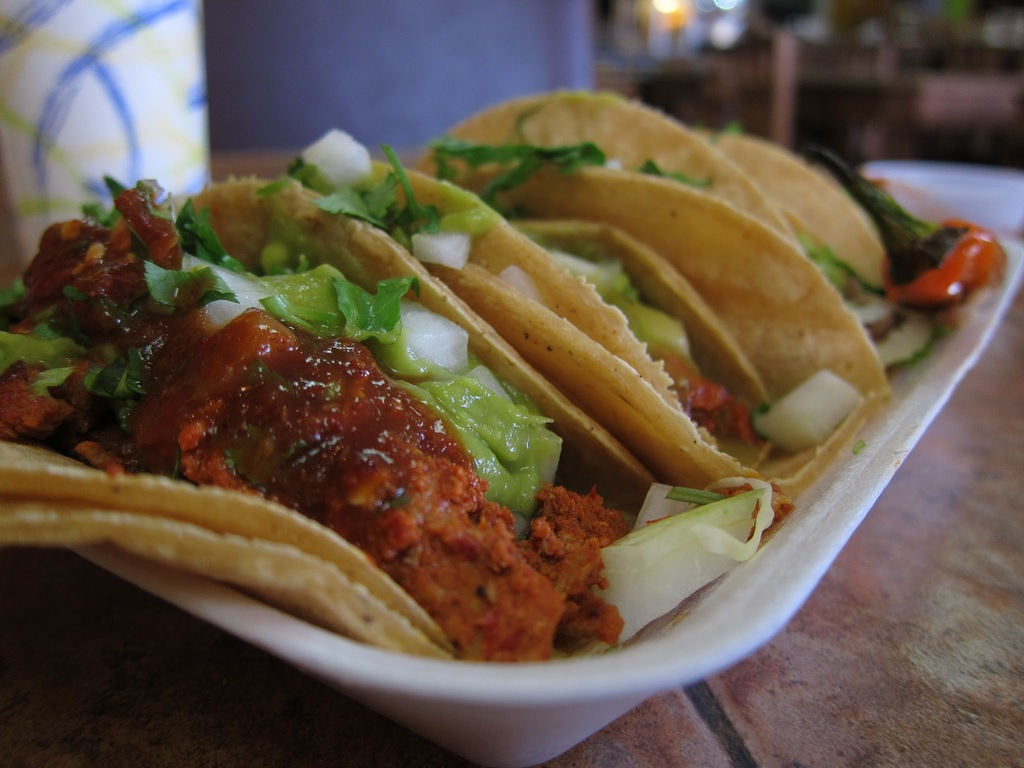taco: (12, 171, 694, 682), (352, 90, 906, 516)
